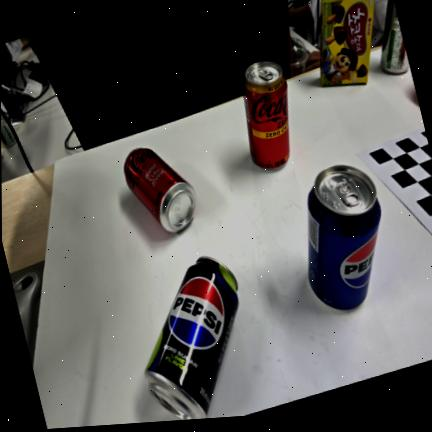can_coke_decaf: (243, 61, 290, 169)
can_coke_zero: (124, 148, 196, 232)
can_pepsi: (308, 165, 381, 309)
can_pepsi_zero: (146, 257, 238, 420)
